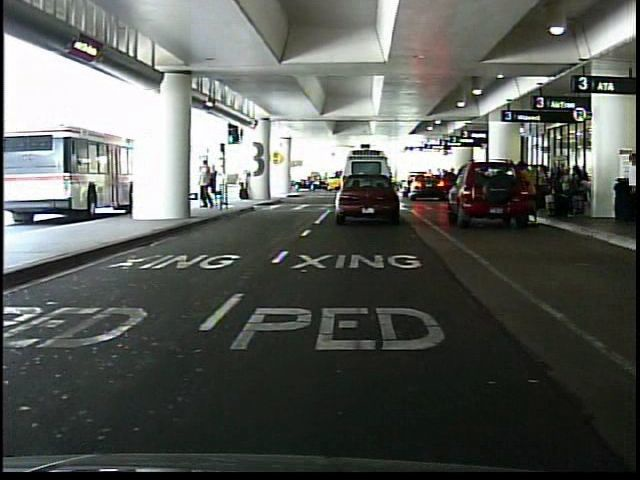person: (619, 148, 640, 227), (197, 156, 216, 213), (236, 165, 255, 203), (208, 163, 221, 211), (527, 159, 528, 223)
